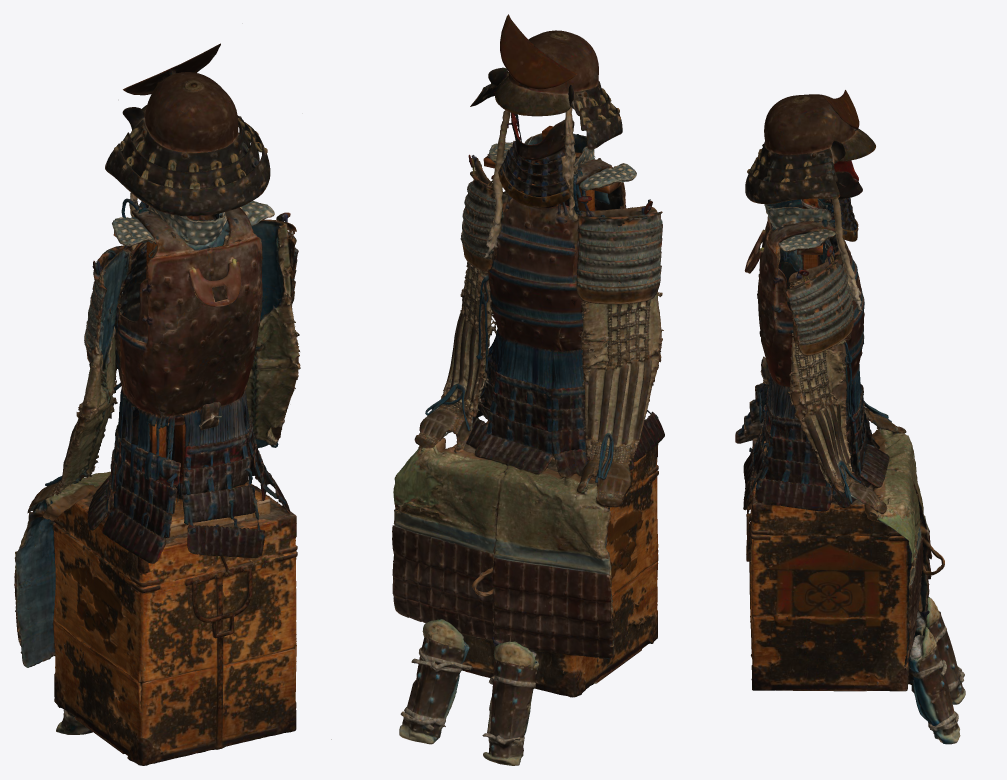
Rendered from samurai-web.glb.
The picture shows the model from 3 angles, left to right: view 1: azimuth 30°, elevation 25°; view 2: azimuth 150°, elevation 25°; view 3: azimuth 270°, elevation 25°; orthographic projection. The views are drawn at different scales.
Parts seen in each view (by area): view 1: SamuraiArmour_200k_clean; view 2: SamuraiArmour_200k_clean; view 3: SamuraiArmour_200k_clean.
Boxes of the visible parts, bbox=[...] form: SamuraiArmour_200k_clean: bbox=[14, 43, 300, 765]; SamuraiArmour_200k_clean: bbox=[331, 14, 664, 765]; SamuraiArmour_200k_clean: bbox=[735, 90, 965, 744].
Bounding box in the file's own units: 9.35 × 23.81 × 8.74.
1 material, 1 textured.
